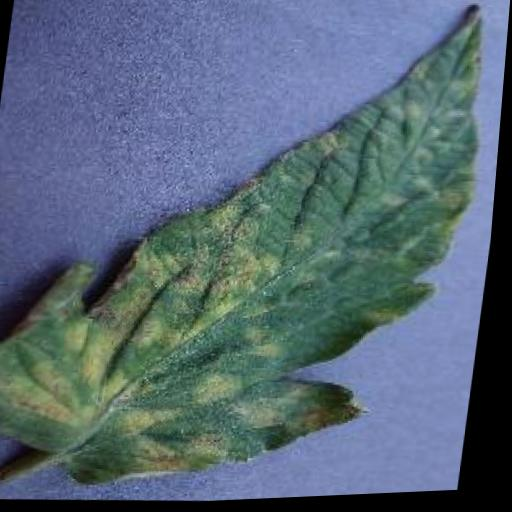Leaf Mold: (0, 0, 498, 507)
